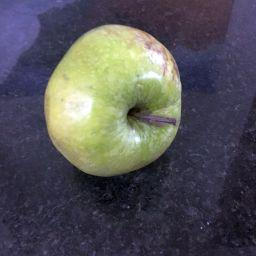apple: (34, 8, 192, 185)
